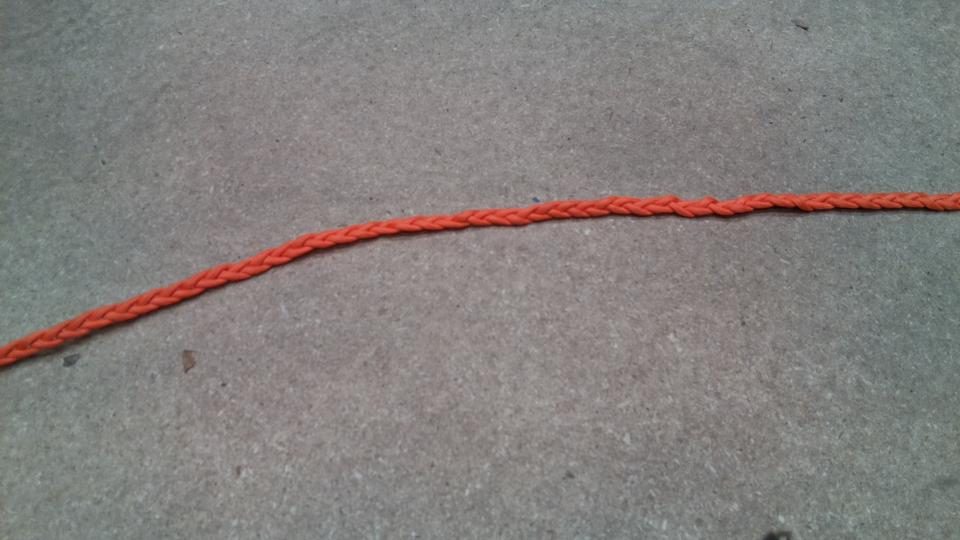rope: (1, 191, 960, 375)
